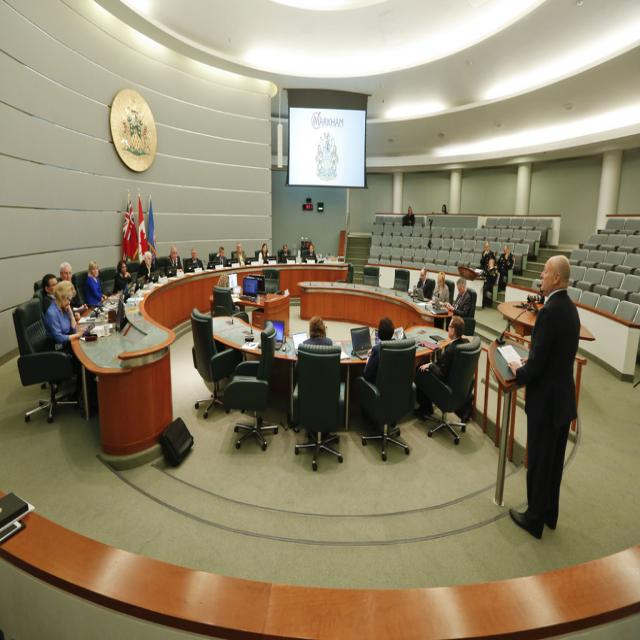chair: (12, 300, 82, 423), (357, 339, 417, 462), (223, 324, 278, 452), (424, 336, 482, 447), (293, 350, 345, 472), (190, 307, 242, 419)
desk: (204, 316, 465, 429)
laptop: (350, 326, 372, 356)
person: (498, 253, 580, 537), (412, 316, 468, 418), (42, 279, 88, 369), (449, 277, 476, 329), (57, 262, 83, 311), (85, 260, 104, 309), (432, 271, 452, 308), (304, 316, 332, 342), (184, 249, 204, 273)
tv: (286, 99, 366, 191)
